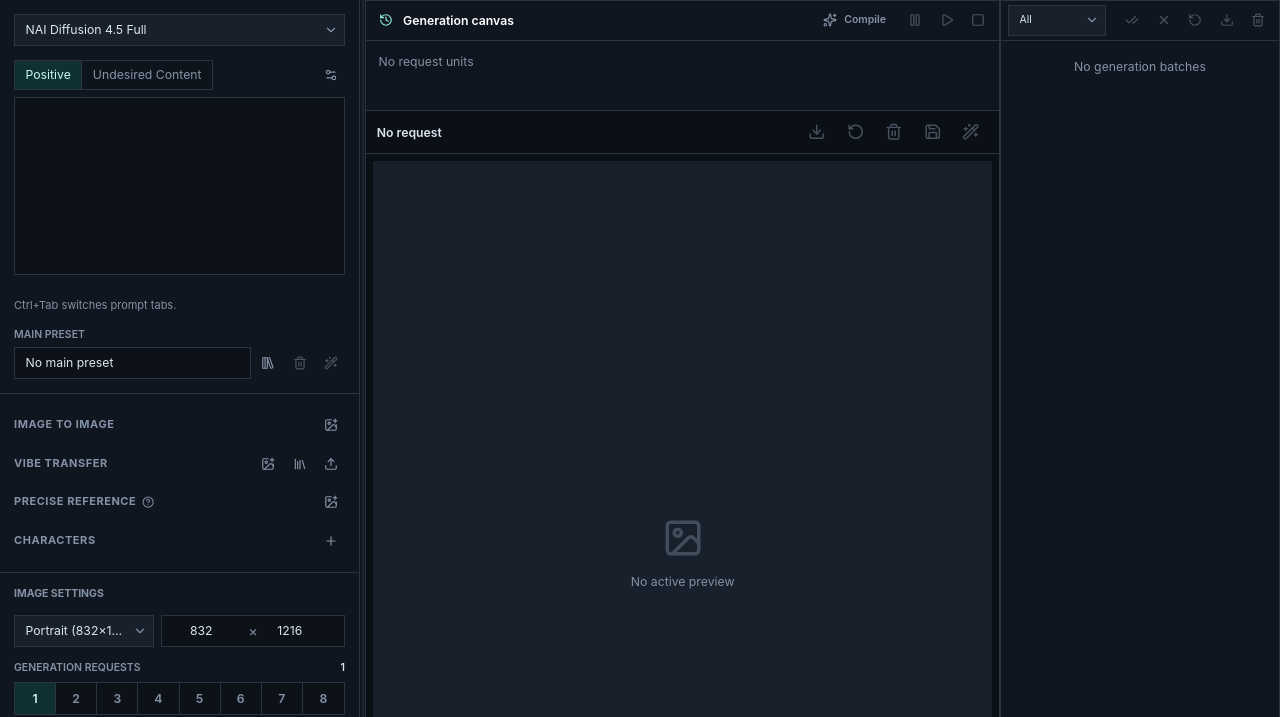
GeneratePage › uses bounded sliders only after an I2I source exists
The image size is (1280, 717).
Click the button named "Add I2I source": (331, 425) 317,411 -> 345,439
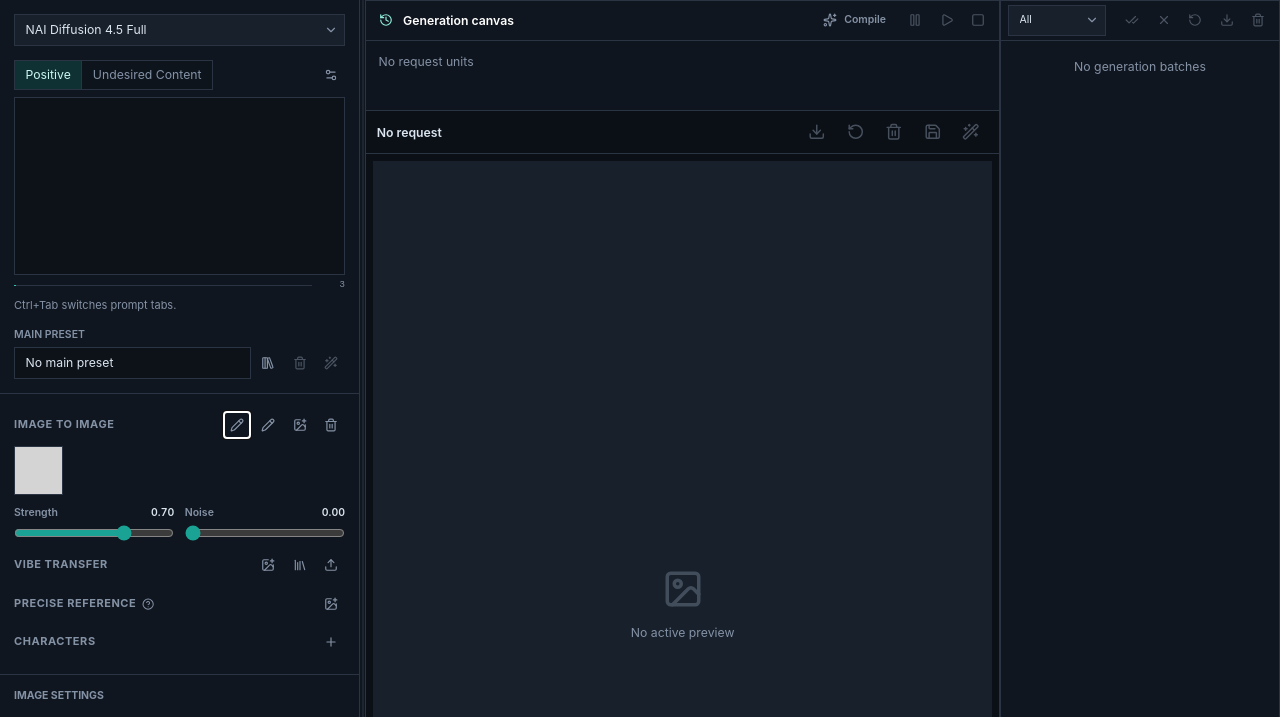
Check: the button named "Import mask" is shown, box 286,411 -> 314,439
Check: the button named "Open Inpaint editor" is shown, box 254,411 -> 282,439
